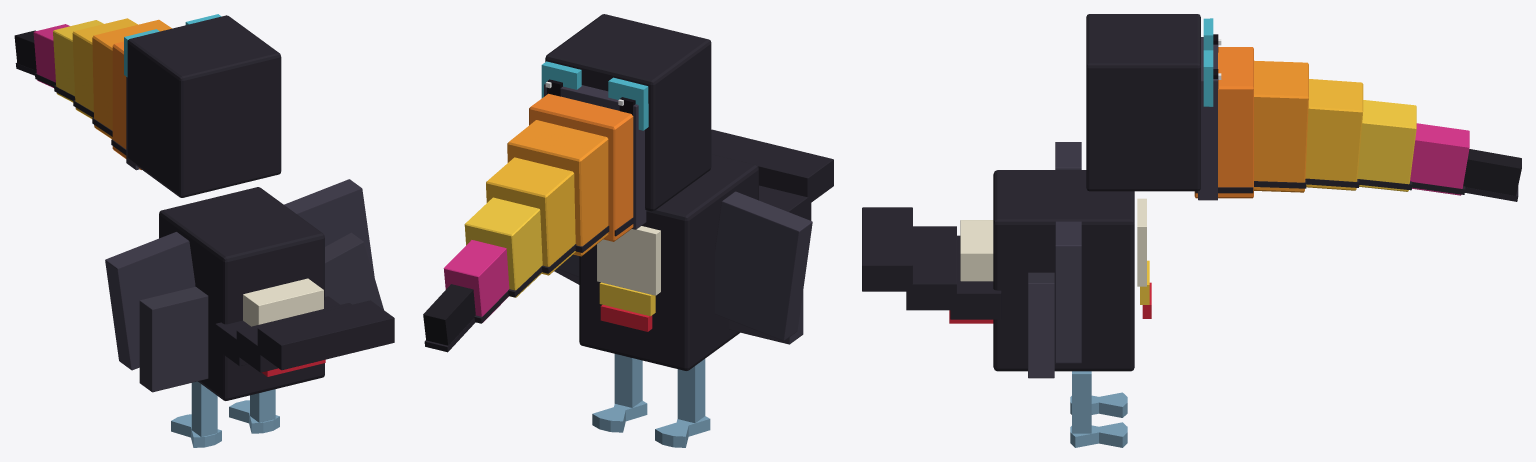
File: toucan.glb
3 views of the same model, side by side, from view 1: azimuth 30°, elevation 25°; view 2: azimuth 150°, elevation 25°; view 3: azimuth 270°, elevation 25° (orthographic). The views are drawn at different scales.
Parts seen in each view (by area): view 1: head, body, wing.R, tail, wing.L, leg.FR, leg.FL; view 2: head, body, wing.R, tail, leg.FR, leg.FL, wing.L; view 3: head, body, tail, wing.L, leg.FL, leg.FR, wing.R.
Boxes of the visible parts, x1=… form: head: x1=14, y1=14, x2=281, y2=197; body: x1=159, y1=187, x2=324, y2=400; wing.R: x1=105, y1=232, x2=208, y2=392; tail: x1=215, y1=278, x2=394, y2=376; wing.L: x1=284, y1=179, x2=383, y2=309; leg.FR: x1=171, y1=381, x2=221, y2=447; leg.FL: x1=229, y1=389, x2=279, y2=433; head: x1=423, y1=14, x2=711, y2=352; body: x1=579, y1=154, x2=758, y2=370; wing.R: x1=715, y1=191, x2=812, y2=344; tail: x1=711, y1=129, x2=833, y2=220; leg.FR: x1=655, y1=359, x2=710, y2=447; leg.FL: x1=592, y1=354, x2=647, y2=432; wing.L: x1=554, y1=254, x2=579, y2=284; head: x1=1086, y1=14, x2=1521, y2=201; body: x1=993, y1=170, x2=1151, y2=371; tail: x1=862, y1=207, x2=1001, y2=323; wing.L: x1=1028, y1=221, x2=1081, y2=378; leg.FL: x1=1070, y1=371, x2=1127, y2=447; leg.FR: x1=1070, y1=392, x2=1127, y2=417; wing.R: x1=1055, y1=142, x2=1081, y2=169.
Bounding box in the file's own units: 0.7365 × 1 × 1.54.
